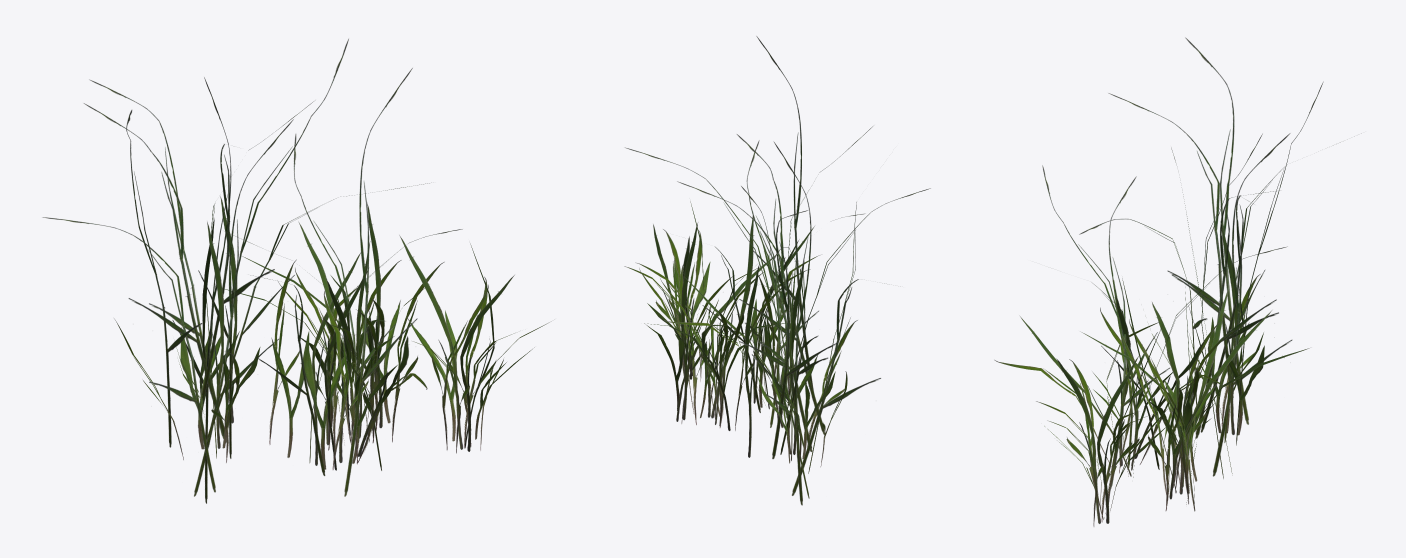
Rendered from grass_01_clean.glb.
The picture shows the model from 3 angles, left to right: view 1: azimuth 30°, elevation 25°; view 2: azimuth 150°, elevation 25°; view 3: azimuth 270°, elevation 25°; orthographic projection. The views are drawn at different scales.
Parts seen in each view (by area): view 1: trasparent grass2.003; view 2: trasparent grass2.003; view 3: trasparent grass2.003.
Boxes of the visible parts, x1=… form: trasparent grass2.003: x1=42, y1=38, x2=551, y2=503; trasparent grass2.003: x1=624, y1=36, x2=930, y2=505; trasparent grass2.003: x1=994, y1=37, x2=1354, y2=526.
Bounding box in the file's own units: 3.84 × 4.27 × 3.4.
4 materials, 4 textured.
